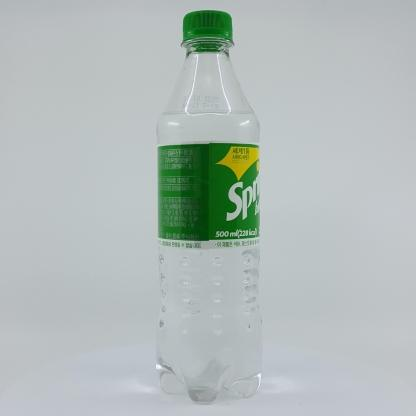-------500ML: (156, 10, 262, 402)
